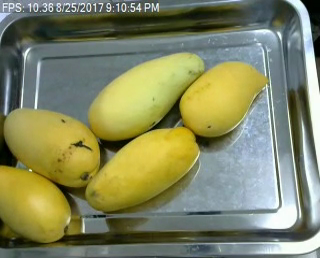Mango: (85, 48, 206, 138), (83, 125, 199, 213), (2, 107, 100, 187), (178, 59, 269, 140), (0, 163, 72, 244)
